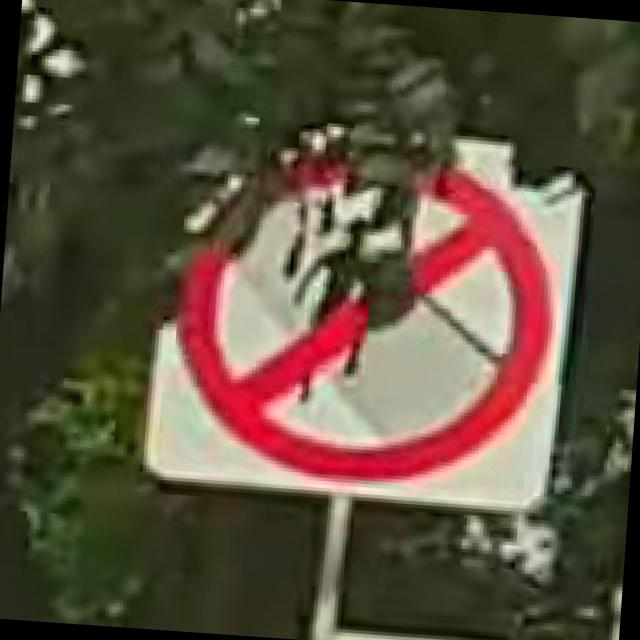nojaywalking_sign: (130, 108, 594, 522)
